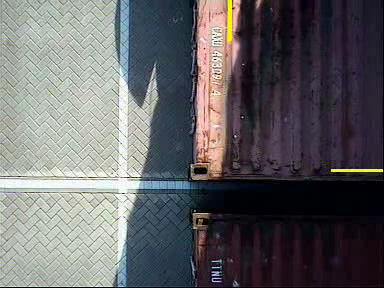groundmarker_2: (150, 160, 199, 194), (146, 38, 195, 71)
